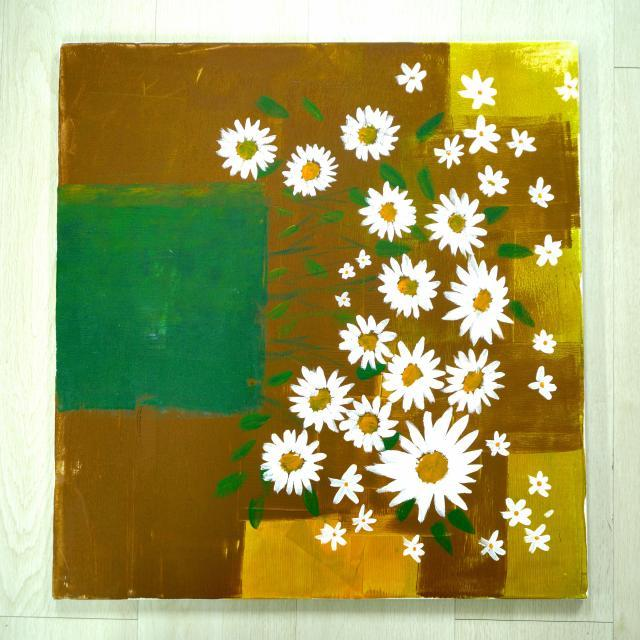painting: (54, 42, 587, 598)
